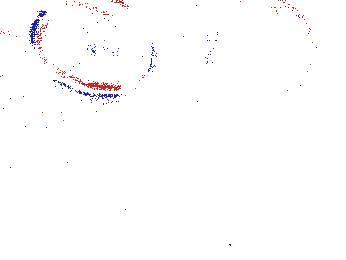moon jellyfish: (35, 1, 152, 96), (218, 1, 315, 95), (204, 1, 285, 88), (1, 33, 55, 118)
